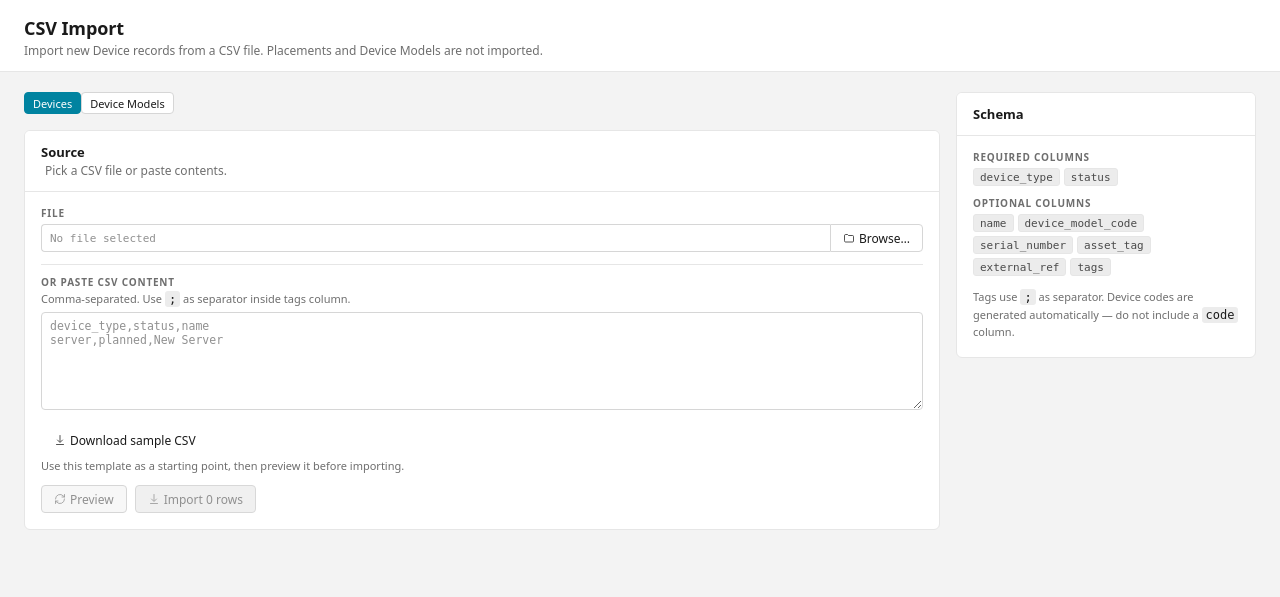
Test case: CsvImportPanel — download sample CSV › shows success message after successful save
This screenshot has width=1280, height=597.
Step 1. Click the button with test id "btn-download-sample" → [125, 440], box [41,426,209,454]
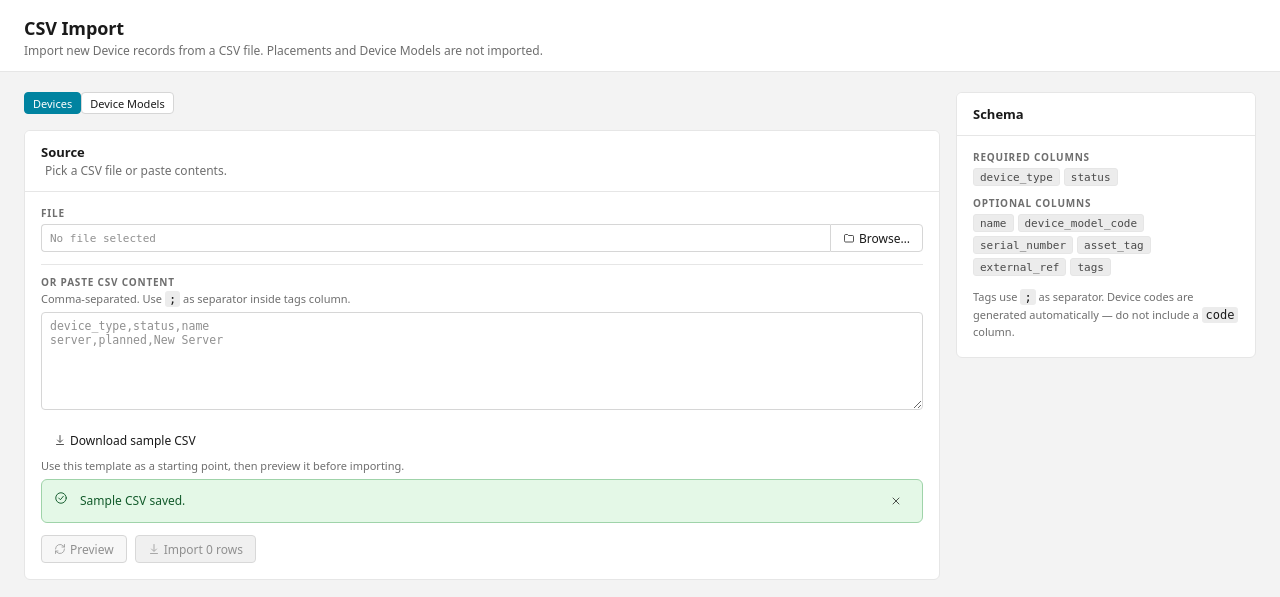
Check: the text "Sample CSV saved." is shown, box [80,492,185,509]
